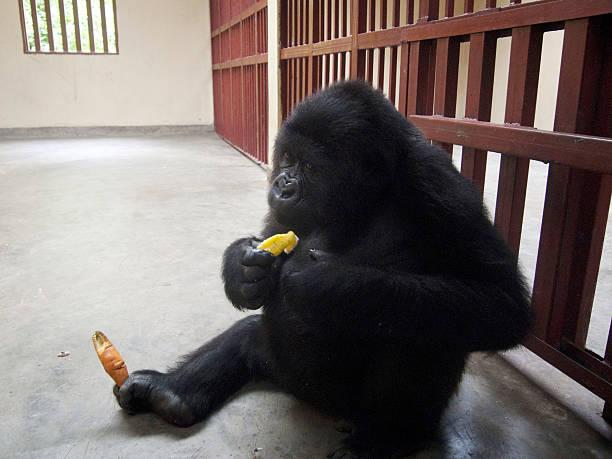goriile_montagne: (220, 70, 543, 424)
